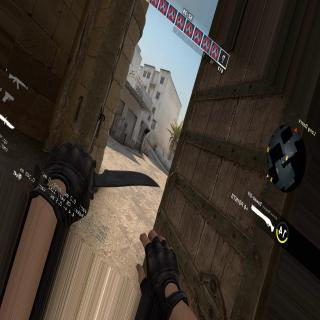CT-Body: (154, 144, 157, 151)
CT-Head: (156, 144, 157, 146)
